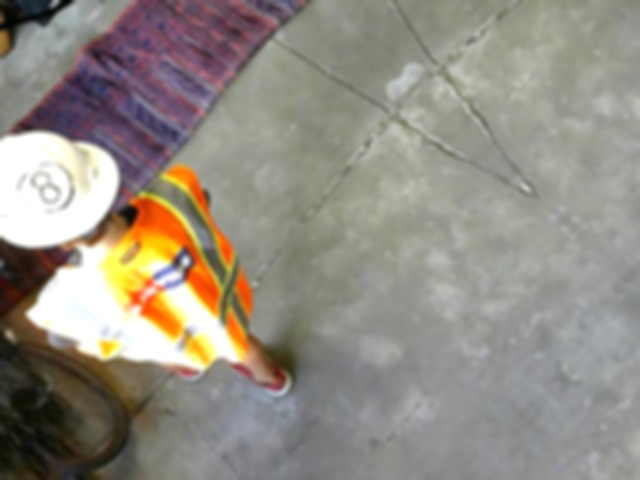eight: (5, 149, 85, 223)
